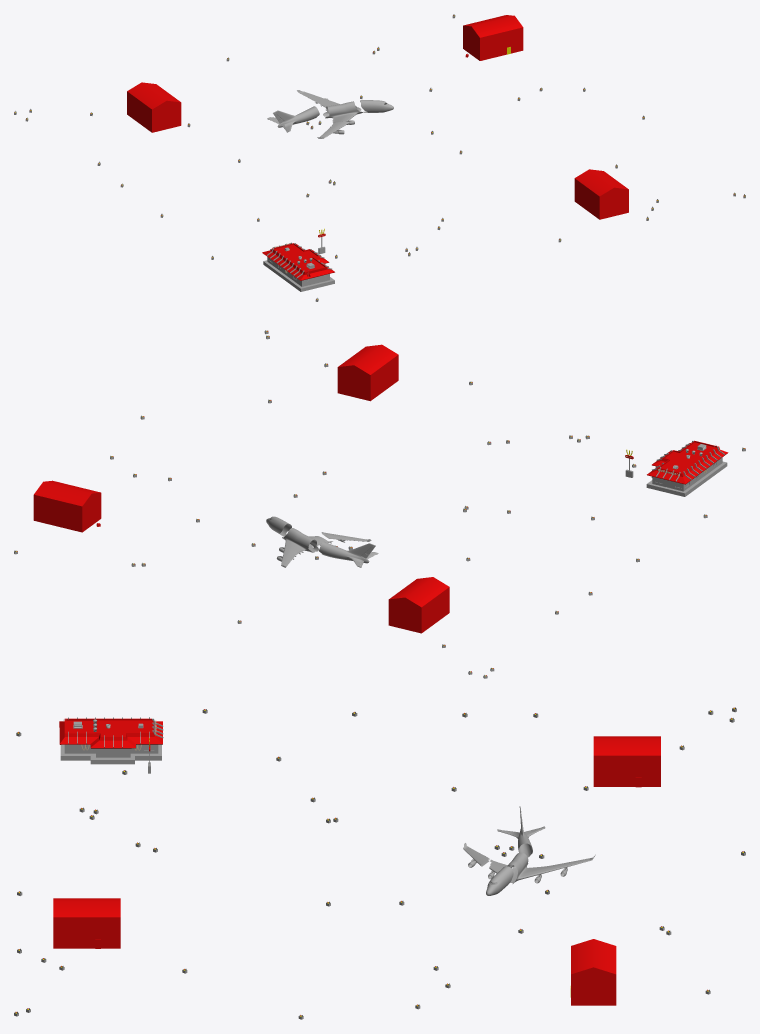
The model's file is scraps_resturant_crash_airplane.fbx.
The picture shows the model from 3 angles, top to bottom: view 1: azimuth 30°, elevation 25°; view 2: azimuth 150°, elevation 25°; view 3: azimuth 270°, elevation 25°; orthographic projection. The views are drawn at different scales.
Parts seen in each view (by area): view 1: polySurface332, RESTUR3, RESTUR1, RESTUR2, polySurface19, polySurface8; view 2: polySurface332, RESTUR3, RESTUR1, RESTUR2, polySurface19, polySurface8; view 3: polySurface332, RESTUR1, RESTUR2, RESTUR3, polySurface19, polySurface8.
Boxes of the visible parts, x1=… form: polySurface332: x1=262, y1=242, x2=334, y2=291; RESTUR3: x1=463, y1=15, x2=523, y2=60; RESTUR1: x1=127, y1=82, x2=181, y2=132; RESTUR2: x1=574, y1=169, x2=628, y2=219; polySurface19: x1=297, y1=90, x2=362, y2=125; polySurface8: x1=267, y1=106, x2=319, y2=132; polySurface332: x1=646, y1=440, x2=728, y2=496; RESTUR3: x1=33, y1=480, x2=101, y2=532; RESTUR1: x1=388, y1=577, x2=449, y2=633; RESTUR2: x1=337, y1=344, x2=398, y2=401; polySurface19: x1=276, y1=528, x2=332, y2=567; polySurface8: x1=319, y1=541, x2=378, y2=567; polySurface332: x1=59, y1=717, x2=163, y2=764; RESTUR1: x1=593, y1=736, x2=660, y2=787; RESTUR2: x1=53, y1=898, x2=120, y2=948; RESTUR3: x1=570, y1=939, x2=616, y2=1005; polySurface19: x1=488, y1=852, x2=595, y2=883; polySurface8: x1=497, y1=806, x2=545, y2=857.
Bounding box in the file's own units: 241 × 15.65 × 242.
